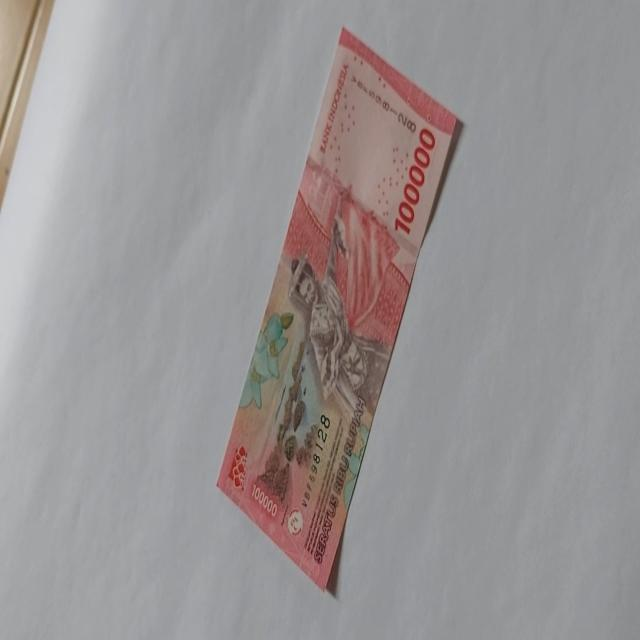seratus ribu rupiah: (214, 26, 462, 592)
